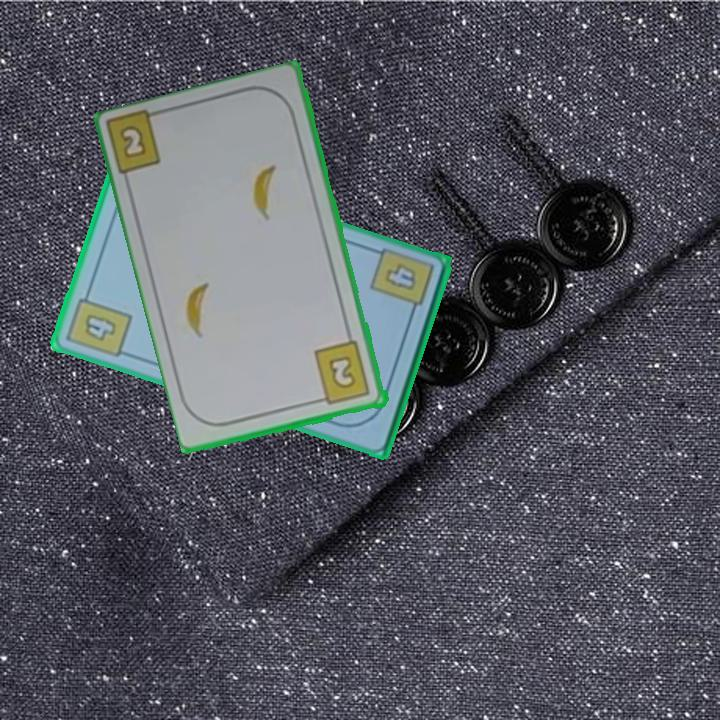2b: (311, 338, 374, 408), (119, 125, 146, 158)
4b: (63, 285, 135, 361), (380, 260, 419, 294)
